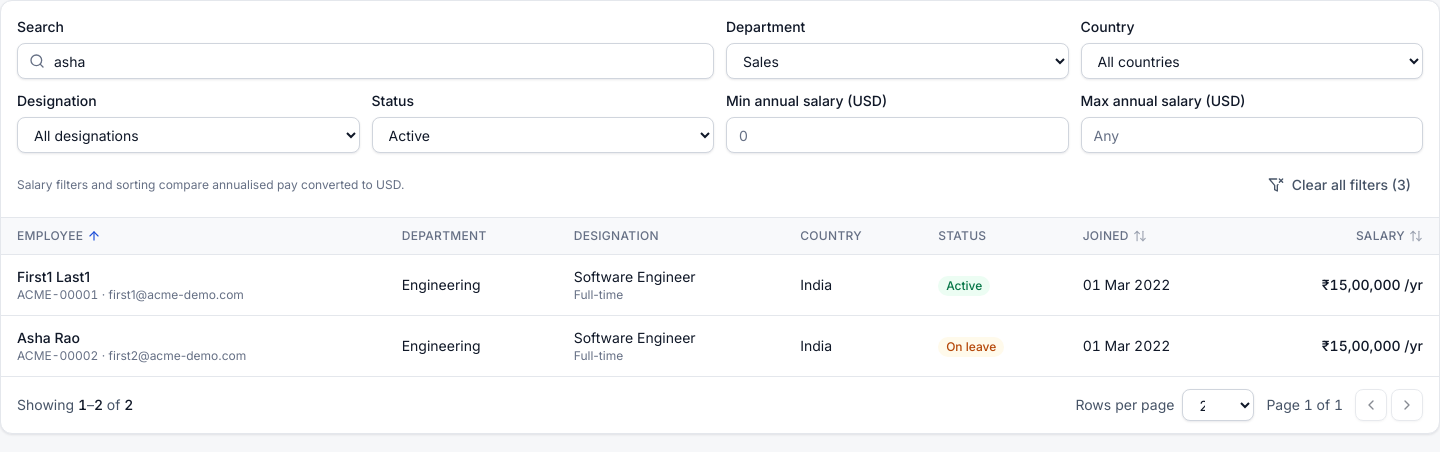
Test: EmployeeDirectory search and filters (server-side) › 'Clear all filters' resets every filter and the search box
This screenshot has width=1440, height=452.
Expected: the link "First1 Last1" is shown, 17,268 -> 90,285
Click the button "Clear all filters (3)" at (1339, 185), box 1256,169 -> 1423,201
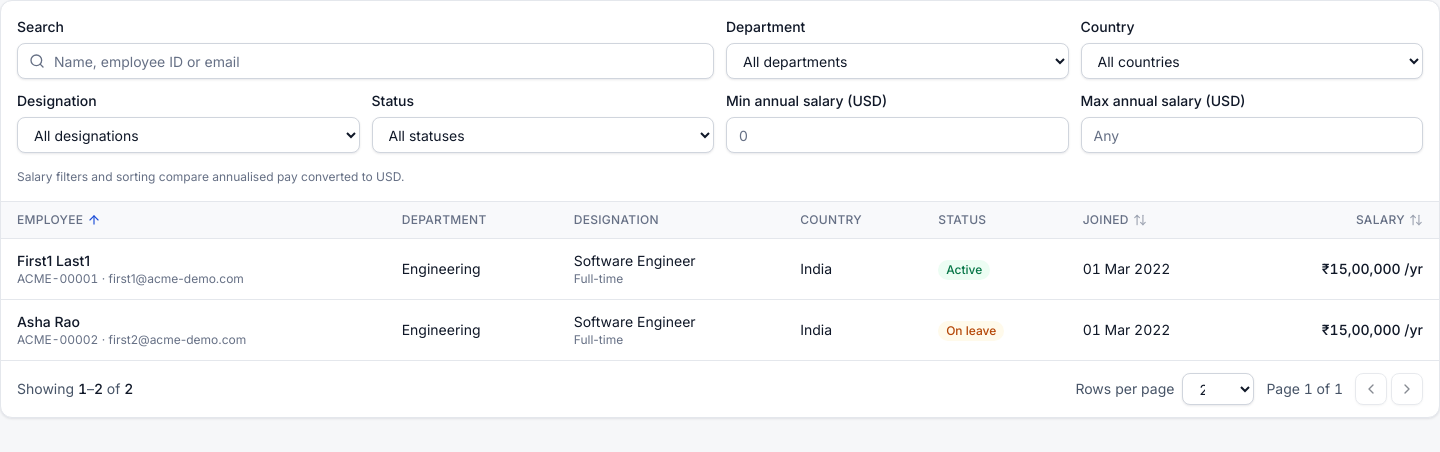
Result: the search field labelled "Search" is empty at 17,43 -> 714,79
Result: the button "Clear all filters" is gone
